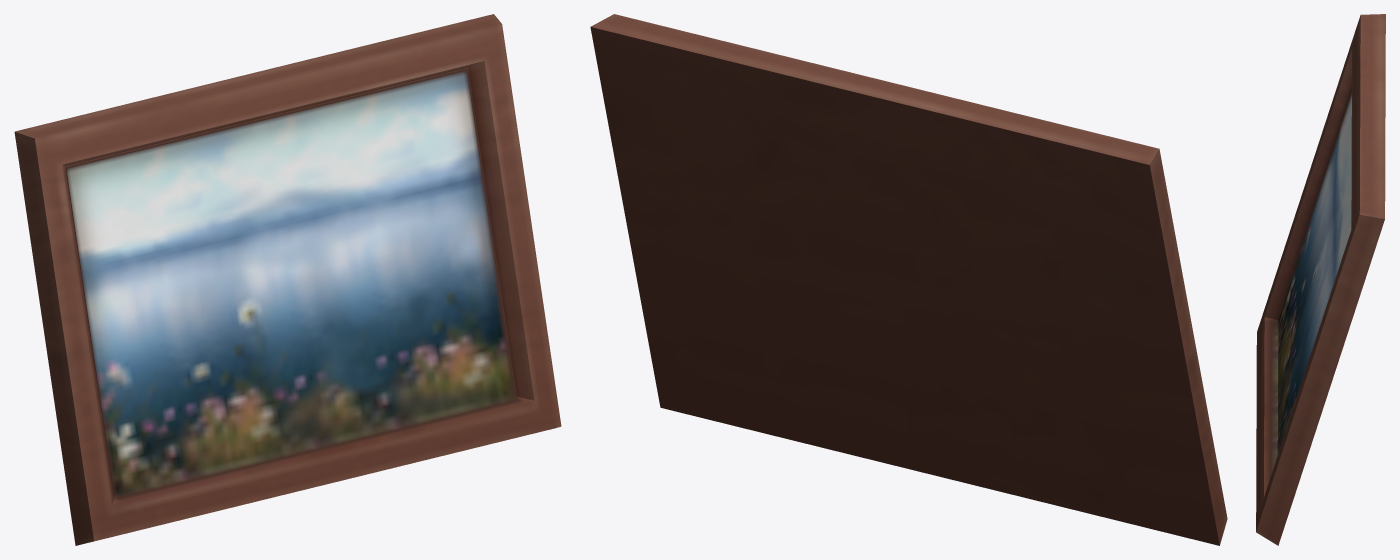
Rendered from WenNiDeChe_01_xiangkuang_01.FBX.
The picture shows the model from 3 angles, left to right: view 1: azimuth 30°, elevation 25°; view 2: azimuth 150°, elevation 25°; view 3: azimuth 270°, elevation 25°; orthographic projection. The views are drawn at different scales.
Parts seen in each view (by area): view 1: NvMingXingJia_01_xiangkuang_01; view 2: NvMingXingJia_01_xiangkuang_01; view 3: NvMingXingJia_01_xiangkuang_01.
Boxes of the visible parts, left/top/right/bottom form: NvMingXingJia_01_xiangkuang_01: left=14, top=14, right=561, bottom=545; NvMingXingJia_01_xiangkuang_01: left=590, top=14, right=1227, bottom=545; NvMingXingJia_01_xiangkuang_01: left=1256, top=14, right=1385, bottom=545.
Size of the model in its own units: 138 by 102 by 36.61.
